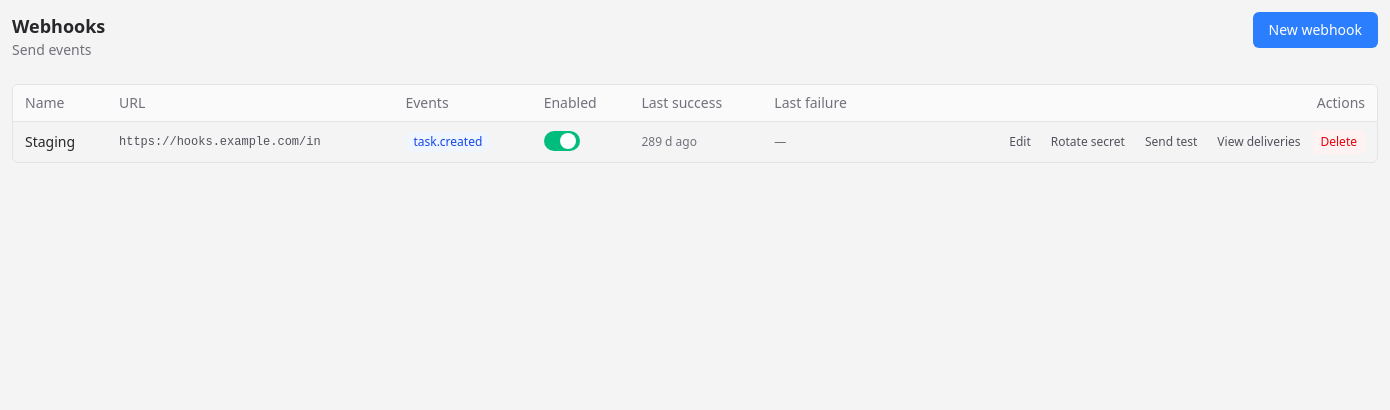
Test case: WebhooksList › expands the deliveries row and shows a refreshable empty state
The width and height of the screenshot is (1390, 410).
Expected: the number of rows with test id "webhook-row" is 1, x1=13 y1=122 x2=1377 y2=162
Step 1. Click the button with test id "webhook-view-deliveries" → (1259, 142), box x1=1209 y1=130 x2=1308 y2=154
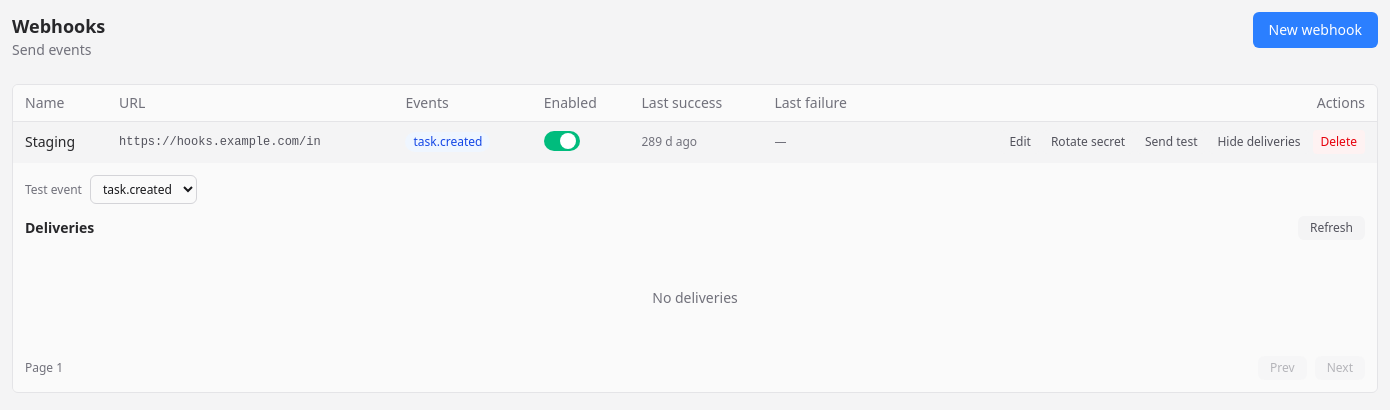
Expected: the text "No deliveries" is shown, x1=652 y1=288 x2=738 y2=307
